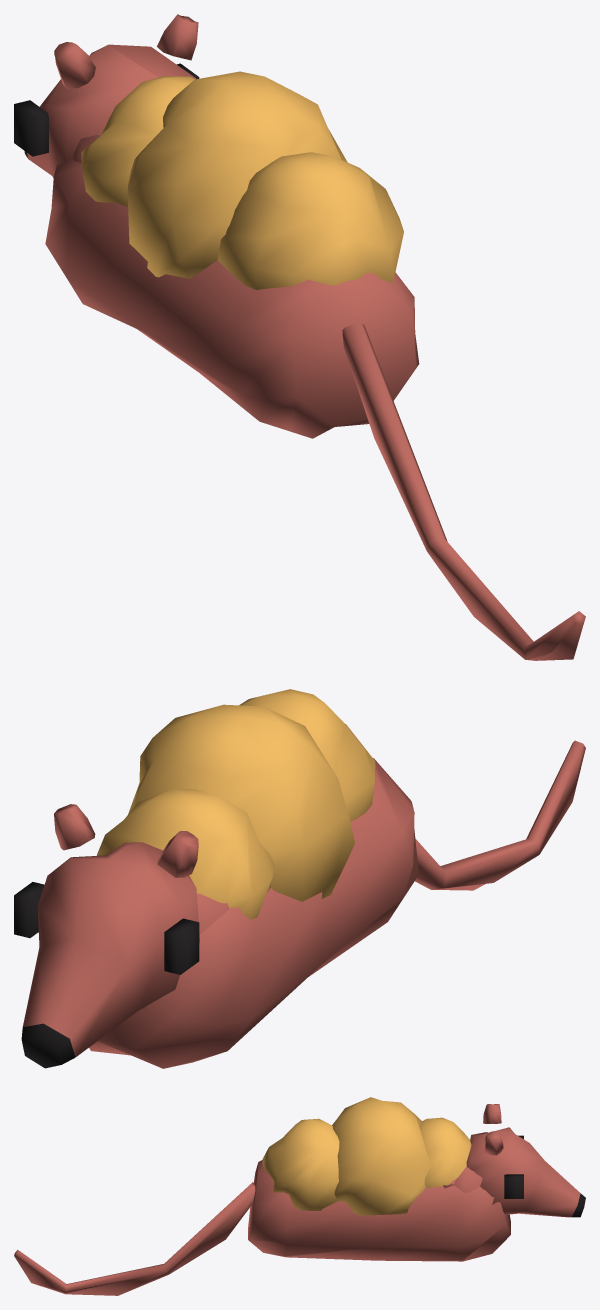
File: animal_boomrat.obj
3 renders of one model, top to bottom at view 1: azimuth 30°, elevation 25°; view 2: azimuth 150°, elevation 25°; view 3: azimuth 270°, elevation 25°, orthographic. The views are drawn at different scales.
Parts seen in each view (by area): view 1: animal_boomrat_component_01_stage_1, animal_boomrat_component_10_stage_1, animal_boomrat_component_09_stage_1, animal_boomrat_component_08_stage_1, animal_boomrat_component_03_stage_1, animal_boomrat_component_11_stage_1, animal_boomrat_component_04_stage_1, animal_boomrat_component_06_stage_1, animal_boomrat_component_07_stage_1; view 2: animal_boomrat_component_01_stage_1, animal_boomrat_component_03_stage_1, animal_boomrat_component_10_stage_1, animal_boomrat_component_11_stage_1, animal_boomrat_component_08_stage_1, animal_boomrat_component_09_stage_1, animal_boomrat_component_04_stage_1, animal_boomrat_component_06_stage_1, animal_boomrat_component_07_stage_1, animal_boomrat_component_05_stage_1, animal_boomrat_component_02_stage_1; view 3: animal_boomrat_component_01_stage_1, animal_boomrat_component_10_stage_1, animal_boomrat_component_03_stage_1, animal_boomrat_component_09_stage_1, animal_boomrat_component_08_stage_1, animal_boomrat_component_11_stage_1, animal_boomrat_component_02_stage_1, animal_boomrat_component_05_stage_1, animal_boomrat_component_07_stage_1, animal_boomrat_component_06_stage_1.
Boxes of the visible parts, x1,y1,x2,y2 form: animal_boomrat_component_01_stage_1: [45, 159, 419, 438]; animal_boomrat_component_10_stage_1: [127, 71, 347, 278]; animal_boomrat_component_09_stage_1: [218, 152, 403, 290]; animal_boomrat_component_08_stage_1: [342, 322, 585, 660]; animal_boomrat_component_03_stage_1: [24, 44, 196, 177]; animal_boomrat_component_11_stage_1: [81, 76, 194, 206]; animal_boomrat_component_04_stage_1: [14, 100, 48, 156]; animal_boomrat_component_06_stage_1: [54, 42, 95, 88]; animal_boomrat_component_07_stage_1: [157, 14, 198, 60]; animal_boomrat_component_01_stage_1: [89, 758, 418, 1068]; animal_boomrat_component_03_stage_1: [21, 842, 199, 1068]; animal_boomrat_component_10_stage_1: [128, 704, 354, 901]; animal_boomrat_component_11_stage_1: [96, 788, 274, 919]; animal_boomrat_component_08_stage_1: [415, 740, 585, 890]; animal_boomrat_component_09_stage_1: [239, 689, 375, 821]; animal_boomrat_component_04_stage_1: [164, 918, 199, 974]; animal_boomrat_component_06_stage_1: [157, 831, 198, 877]; animal_boomrat_component_07_stage_1: [54, 804, 95, 850]; animal_boomrat_component_05_stage_1: [14, 882, 44, 938]; animal_boomrat_component_02_stage_1: [140, 893, 229, 1009]; animal_boomrat_component_01_stage_1: [248, 1160, 510, 1261]; animal_boomrat_component_10_stage_1: [332, 1097, 431, 1215]; animal_boomrat_component_03_stage_1: [466, 1127, 585, 1217]; animal_boomrat_component_09_stage_1: [262, 1118, 339, 1210]; animal_boomrat_component_08_stage_1: [14, 1182, 255, 1295]; animal_boomrat_component_11_stage_1: [419, 1117, 470, 1187]; animal_boomrat_component_02_stage_1: [443, 1144, 506, 1216]; animal_boomrat_component_05_stage_1: [504, 1174, 523, 1198]; animal_boomrat_component_07_stage_1: [485, 1131, 503, 1155]; animal_boomrat_component_06_stage_1: [483, 1104, 501, 1123].
Bounding box in the file's own units: 0.1956 × 0.342 × 0.9297.
